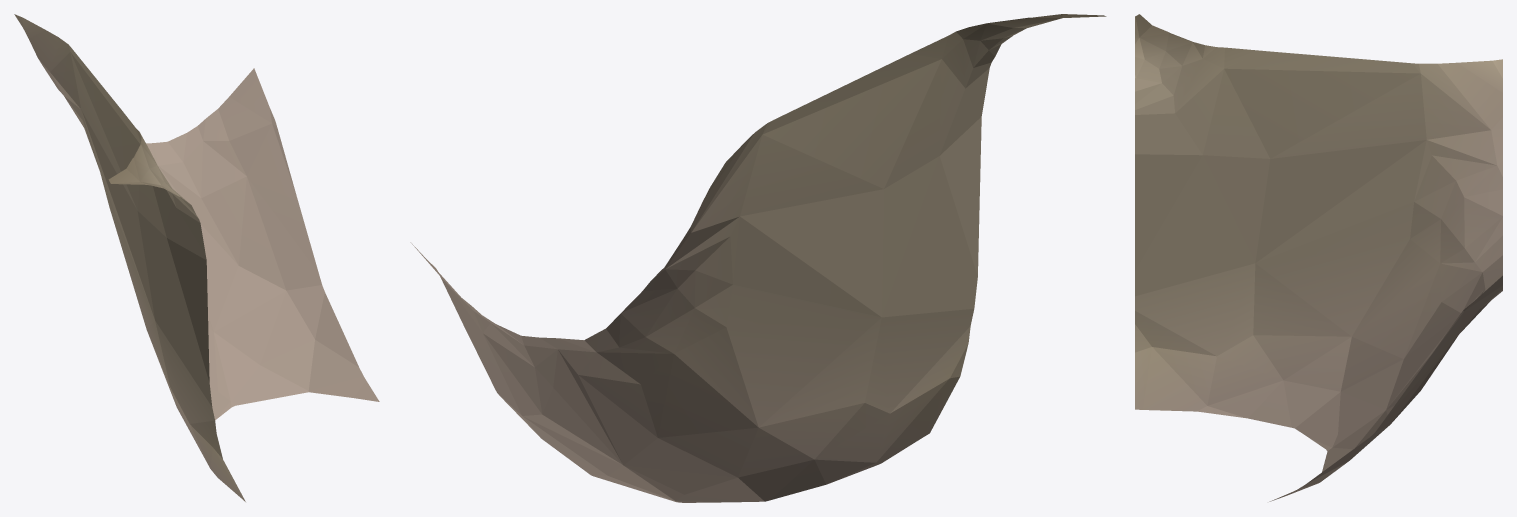
The model's file is bisect-5-2-7.gltf.
3 renders of one model, left to right at view 1: azimuth 30°, elevation 25°; view 2: azimuth 150°, elevation 25°; view 3: azimuth 270°, elevation 25°, orthographic. The views are drawn at different scales.
Visible parts, largest first — view 1: bisect-5-2-7; view 2: bisect-5-2-7; view 3: bisect-5-2-7.
Part boxes in pixels (x1,y1,x2,y2): bisect-5-2-7: (14, 14, 379, 501); bisect-5-2-7: (410, 14, 1106, 502); bisect-5-2-7: (1135, 14, 1502, 501).
Size of the model in its own units: 20 by 20 by 20.
